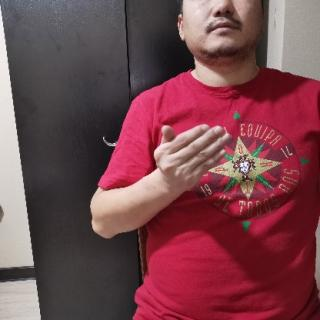KHAA: (153, 118, 234, 195)
